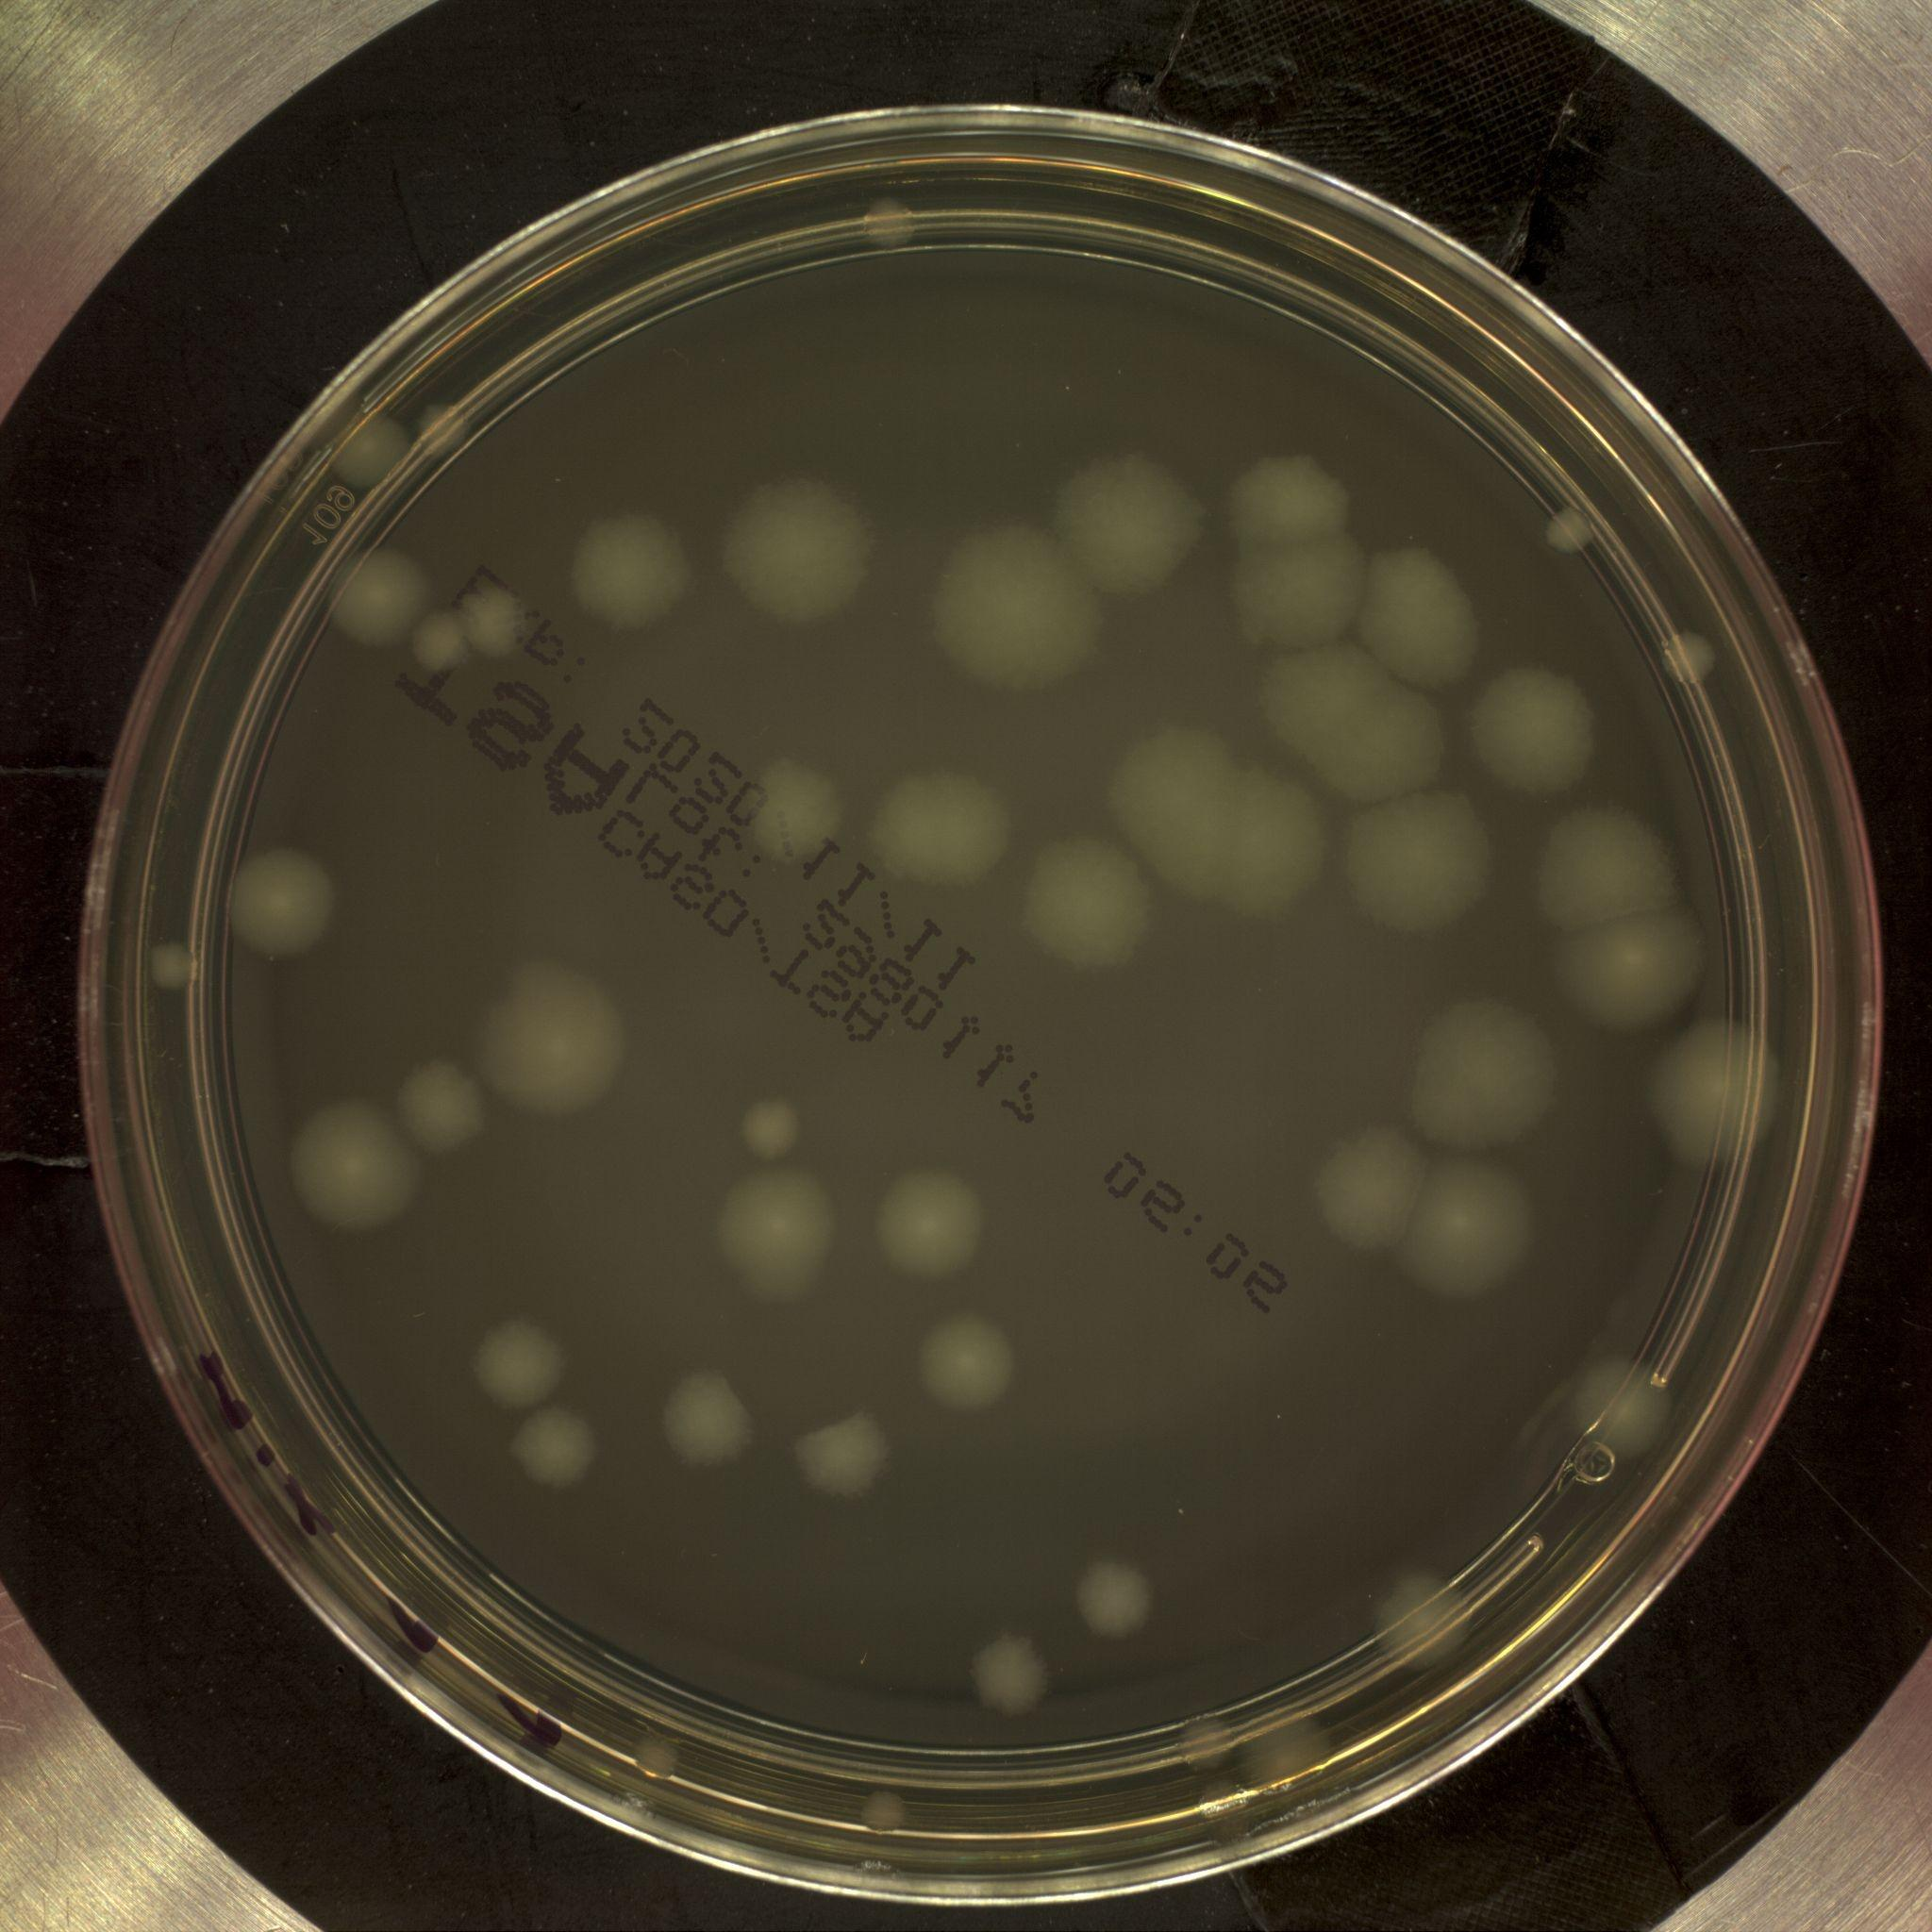e. coli: (1111, 731, 1330, 934), (1253, 649, 1456, 801), (941, 524, 1111, 694), (1233, 453, 1355, 665), (1030, 835, 1180, 984), (478, 970, 628, 1113), (1415, 991, 1555, 1145), (1054, 453, 1208, 593), (1667, 1014, 1790, 1169), (708, 1173, 846, 1311), (1357, 793, 1504, 922), (1545, 807, 1684, 941), (729, 483, 876, 610), (1364, 545, 1477, 699), (1408, 1152, 1536, 1288), (876, 773, 1017, 893), (1575, 918, 1713, 1040), (1474, 663, 1599, 794), (290, 1104, 425, 1224), (729, 743, 847, 870), (1313, 1127, 1424, 1256), (913, 1313, 1024, 1422), (577, 522, 692, 628), (874, 1173, 991, 1277), (1582, 1346, 1679, 1465), (225, 849, 333, 954), (472, 1311, 579, 1412), (322, 540, 425, 642), (1362, 1566, 1474, 1656), (656, 1368, 755, 1468), (798, 1410, 890, 1504), (968, 1631, 1056, 1721), (1077, 1557, 1166, 1644), (515, 1403, 600, 1493), (1244, 1698, 1330, 1783), (403, 1070, 488, 1152), (338, 412, 416, 488), (465, 579, 541, 656), (736, 1095, 814, 1162), (863, 184, 934, 257), (414, 600, 487, 671), (138, 934, 211, 996), (1171, 1709, 1240, 1773), (418, 403, 481, 467), (1654, 628, 1721, 685), (1541, 501, 1601, 559)
